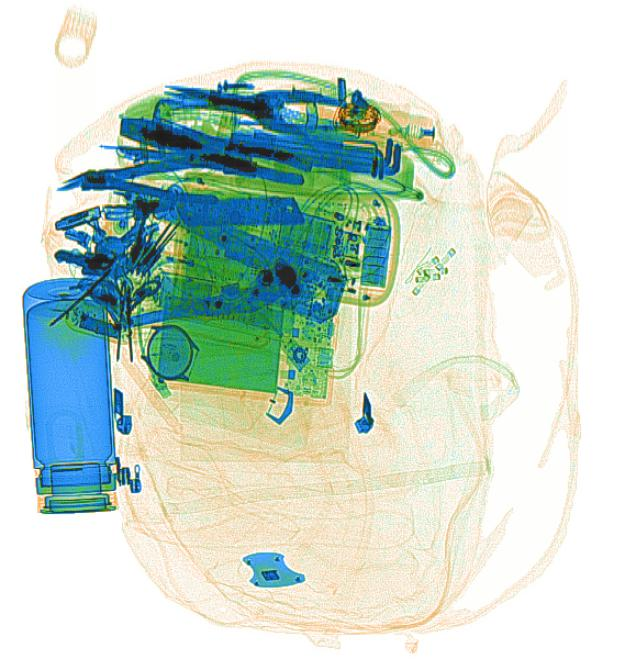battery: (360, 217, 393, 293)
knife: (174, 194, 306, 229)
scissors: (162, 84, 355, 138)
